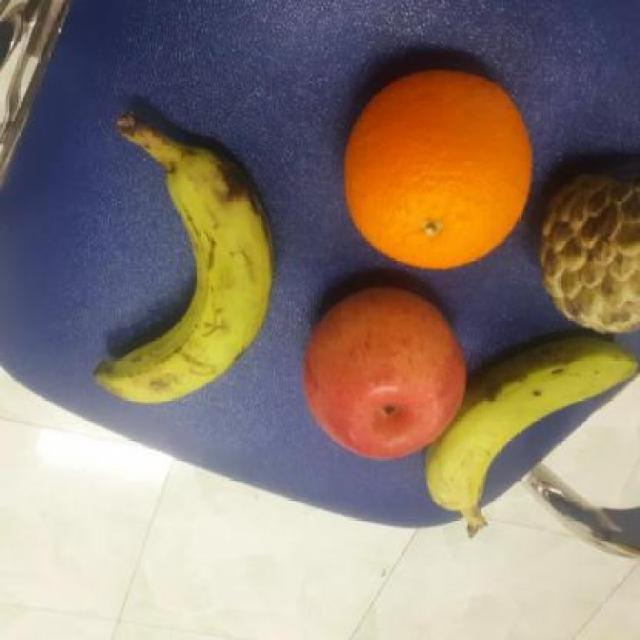apple: (299, 285, 470, 463)
banana: (88, 145, 279, 410), (423, 330, 640, 518)
oren: (345, 67, 534, 276)
sugar apple: (527, 170, 640, 334)
